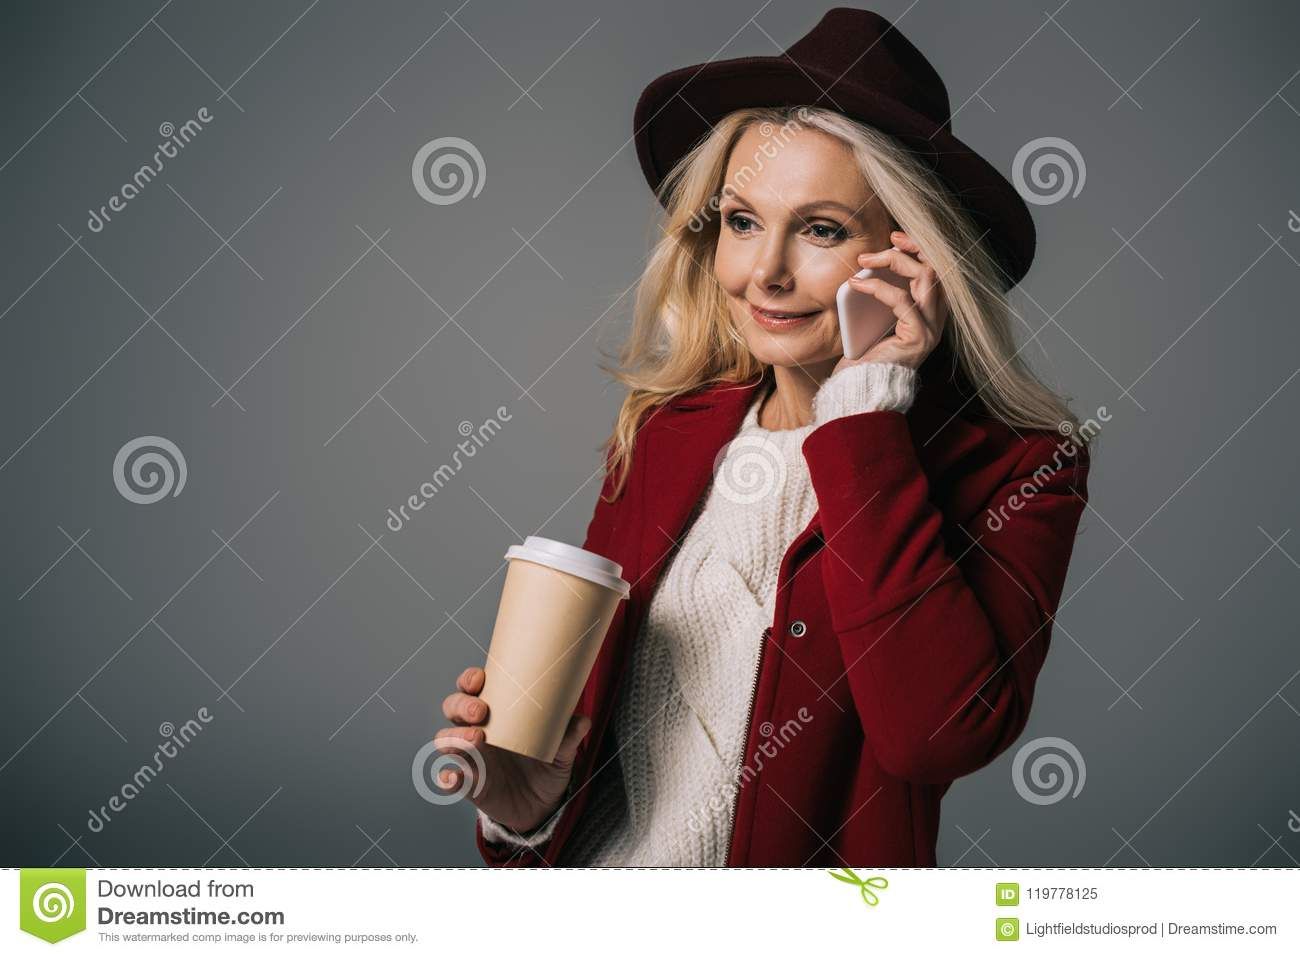phone: (837, 253, 916, 360)
talk: (708, 182, 949, 384)
